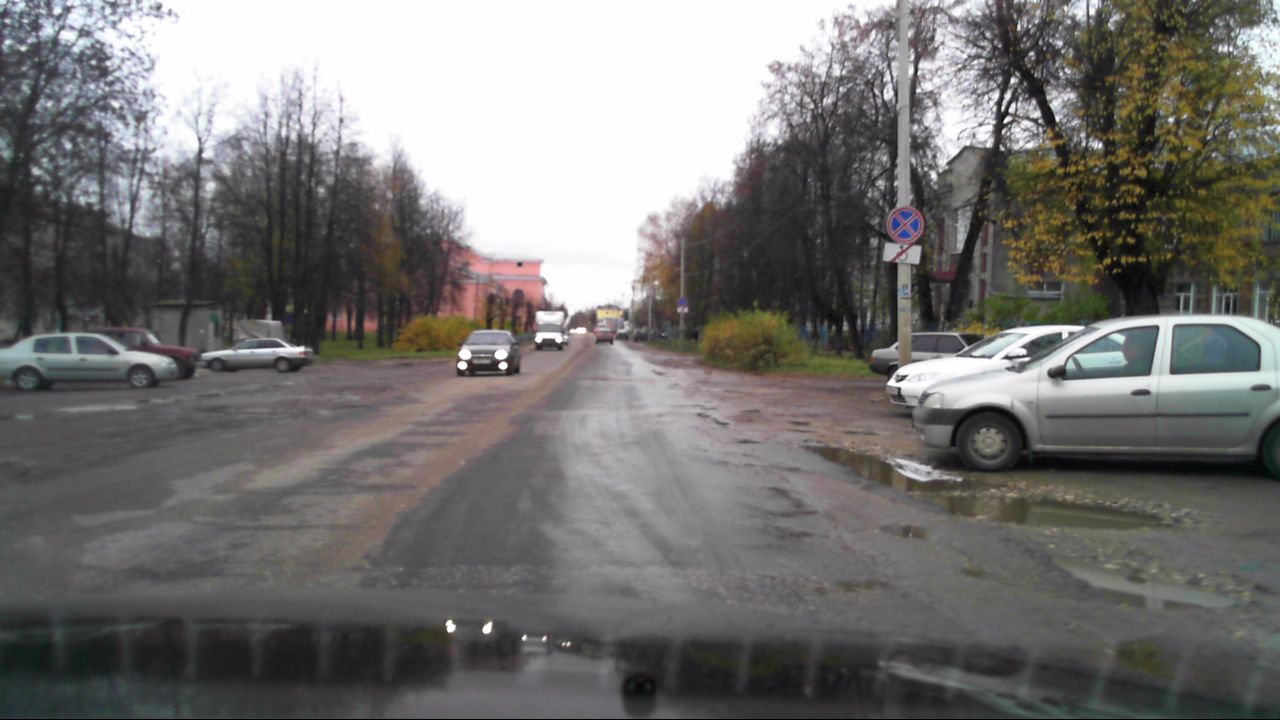No Parking: (885, 206, 923, 244)
